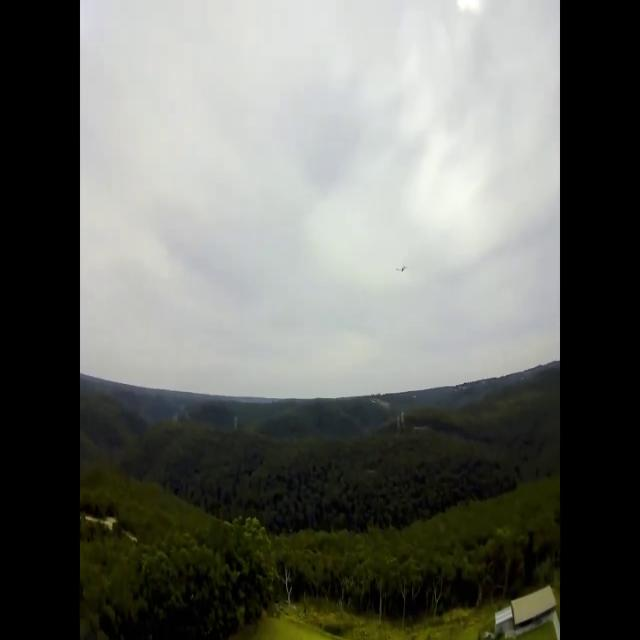iha: (400, 268, 405, 270)
